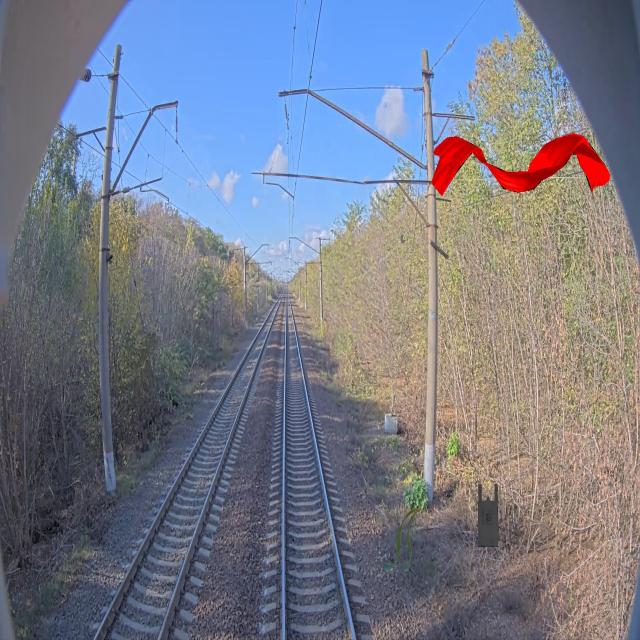floating object: (431, 132, 610, 196), (382, 508, 424, 572)
plastic bag: (478, 483, 498, 548)
